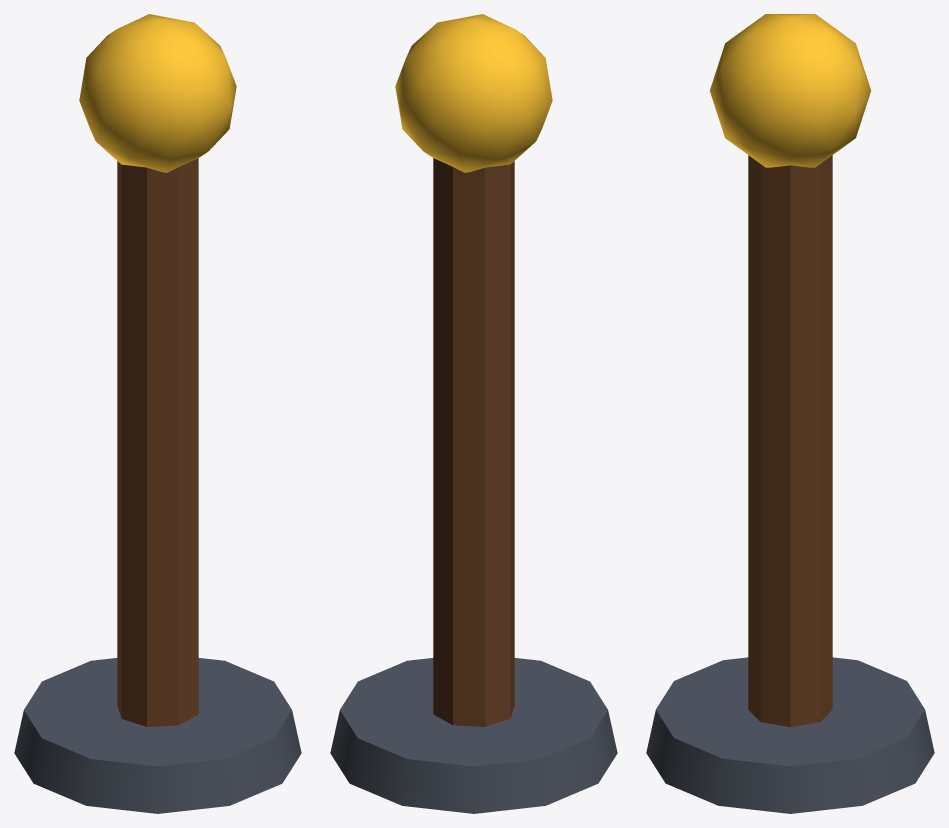
Rendered from qpost.fbx.
3 renders of one model, left to right at view 1: azimuth 30°, elevation 25°; view 2: azimuth 150°, elevation 25°; view 3: azimuth 270°, elevation 25°, orthographic.
Parts seen in each view (by area): view 1: qpost; view 2: qpost; view 3: qpost.
Part boxes in pixels (box(x1,y1,x2,y2)): qpost: box(14, 14, 301, 813); qpost: box(330, 14, 617, 813); qpost: box(646, 14, 934, 813).
Size of the model in its own units: 0.15 by 0.422 by 0.15.
